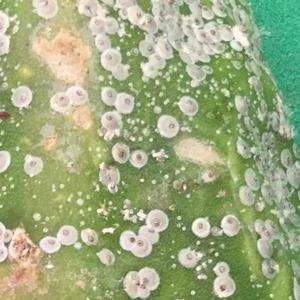Femea: (67, 87, 84, 104), (215, 274, 231, 292), (158, 116, 174, 133), (200, 25, 217, 41), (139, 270, 155, 286), (41, 237, 60, 250), (133, 237, 149, 252), (157, 39, 171, 56), (149, 211, 166, 225), (222, 216, 236, 233), (96, 35, 111, 50), (113, 145, 126, 162), (141, 226, 158, 239), (122, 230, 135, 247), (103, 86, 116, 102), (101, 52, 117, 65), (180, 251, 194, 265), (24, 159, 39, 172), (59, 227, 72, 242), (99, 114, 115, 126), (90, 17, 102, 33), (82, 230, 95, 244), (118, 95, 130, 110), (148, 53, 163, 65), (132, 152, 145, 165), (103, 17, 115, 31), (194, 220, 206, 234), (55, 91, 66, 106), (216, 263, 227, 274), (141, 41, 151, 52)
Linfa: (150, 147, 167, 160), (206, 78, 218, 94), (162, 70, 172, 81), (195, 273, 208, 281), (125, 116, 135, 126), (168, 63, 179, 71), (176, 86, 186, 94), (175, 74, 184, 82), (193, 263, 201, 272), (197, 259, 205, 268), (175, 220, 183, 229), (142, 91, 151, 98), (205, 256, 212, 265), (150, 95, 156, 105), (171, 168, 179, 175), (148, 137, 155, 144), (137, 135, 144, 142), (139, 118, 146, 125), (188, 289, 196, 295), (157, 91, 164, 97), (195, 89, 201, 96), (201, 91, 206, 99), (160, 83, 165, 90), (150, 177, 155, 184), (179, 165, 186, 170), (134, 116, 140, 121), (139, 176, 144, 182), (180, 225, 186, 230), (192, 94, 199, 98), (176, 215, 182, 219)
Macho: (99, 225, 113, 234)
